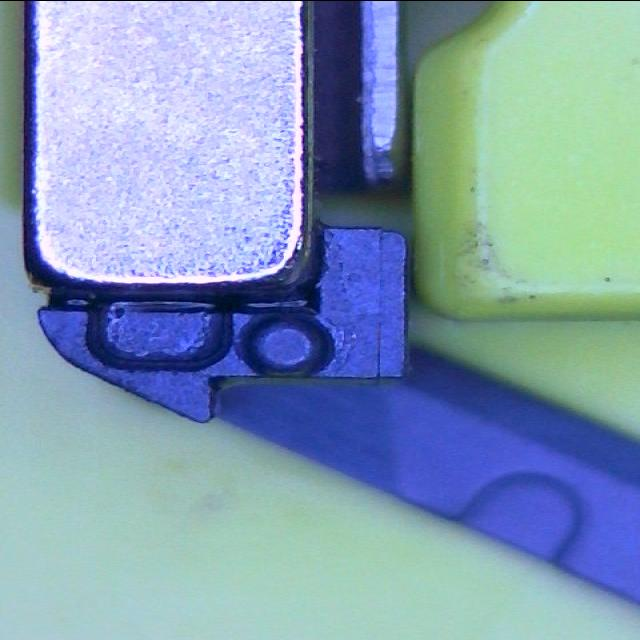lacking: (82, 298, 232, 372)
